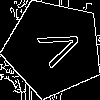V: (28, 23, 85, 73)
